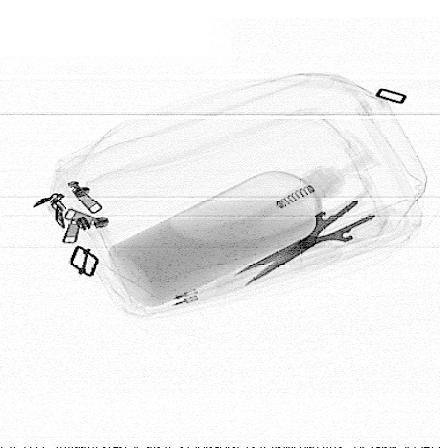Scissors: (232, 171, 410, 288)
